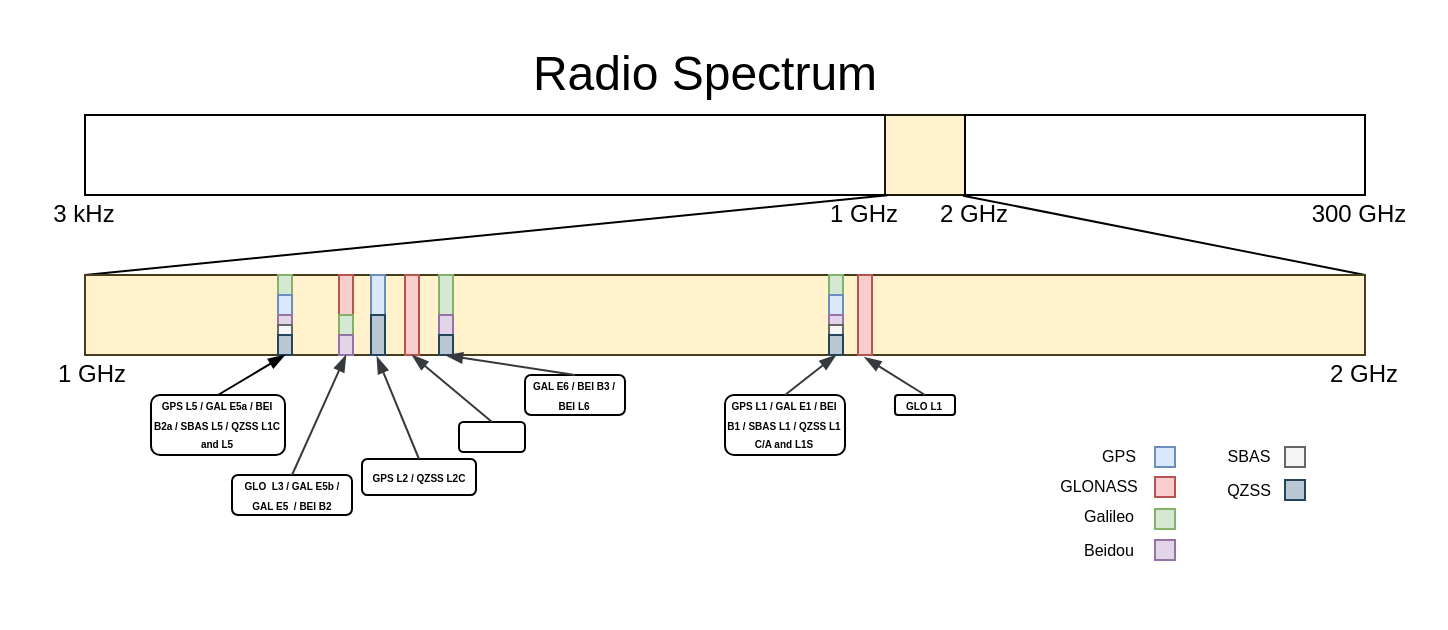
Image size: 1448x630. Some labels were removed from this diagram. Each missing label, with the centre of its shape:
GLO L2: the point at 491,436
L-band: the point at 924,154
